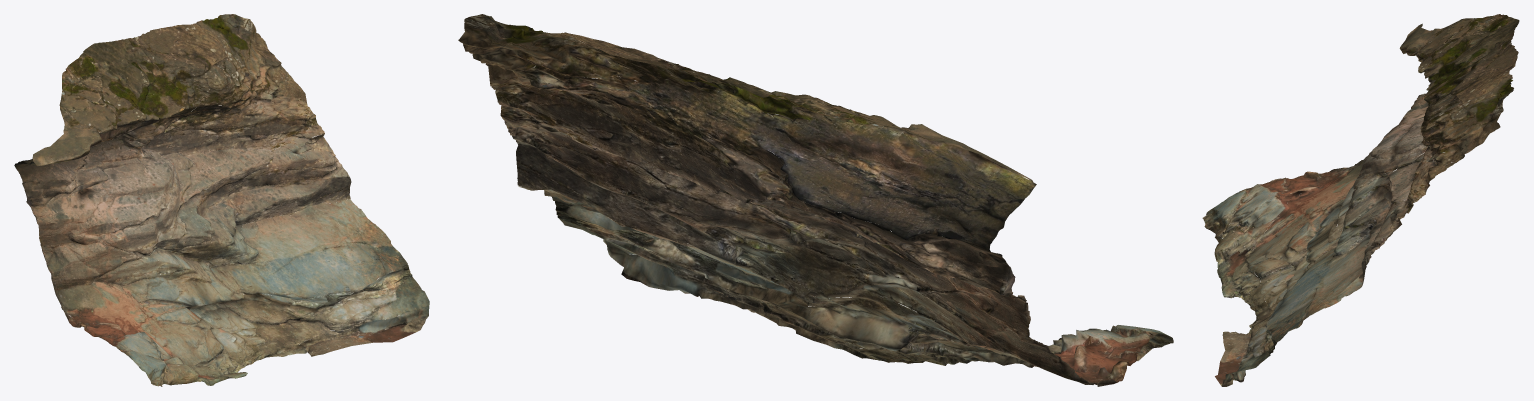
The model's file is rock_face_01.glb.
3 renders of one model, left to right at view 1: azimuth 30°, elevation 25°; view 2: azimuth 150°, elevation 25°; view 3: azimuth 270°, elevation 25°, orthographic. The views are drawn at different scales.
Visible parts, largest first — view 1: rock_face_01; view 2: rock_face_01; view 3: rock_face_01.
Part boxes in pixels (left/top/right/bottom): rock_face_01: left=14, top=14, right=429, bottom=386; rock_face_01: left=458, top=14, right=1173, bottom=386; rock_face_01: left=1202, top=14, right=1519, bottom=386.
Size of the model in its own units: 4.95 by 3.57 by 3.83.
Materials: 1 (1 with a texture image).
